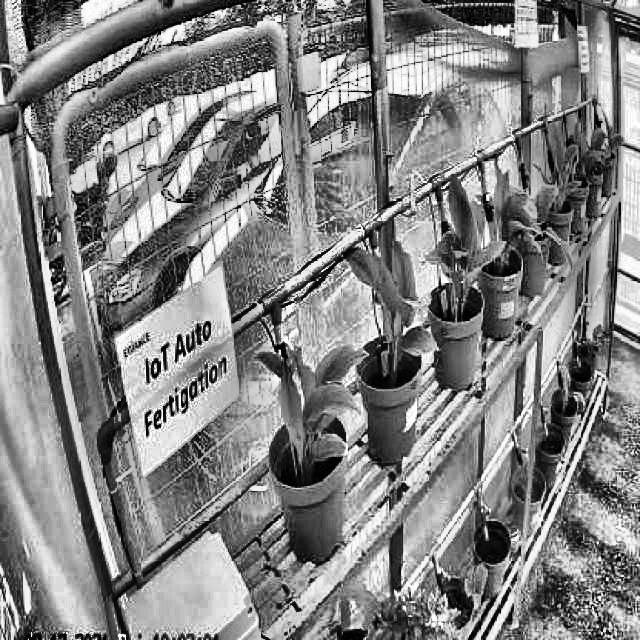plants: (256, 348, 369, 476), (347, 240, 441, 358), (426, 170, 504, 292), (487, 157, 541, 268), (550, 130, 582, 210)
